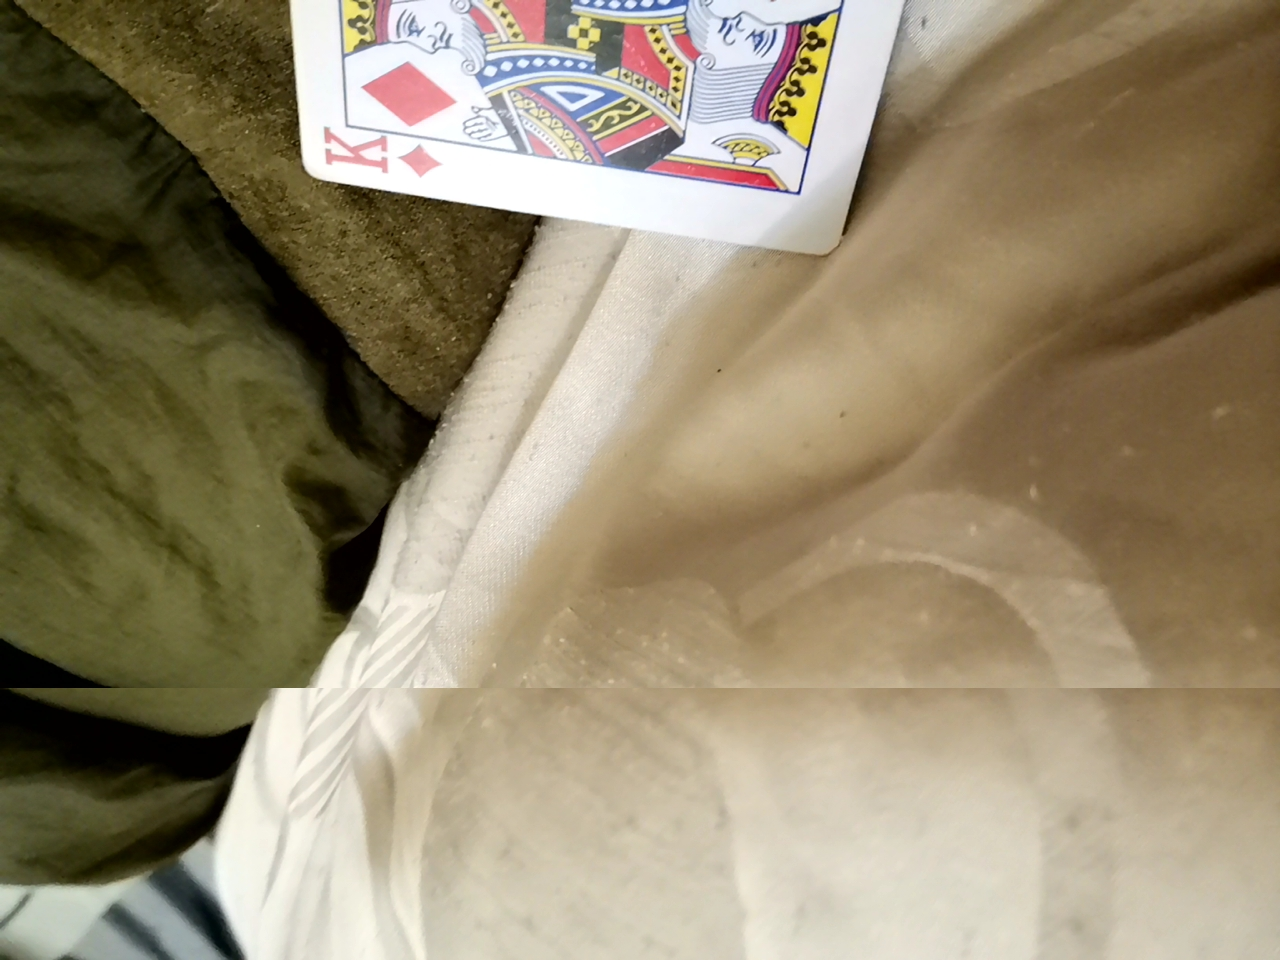fk k: (257, 2, 936, 250)
